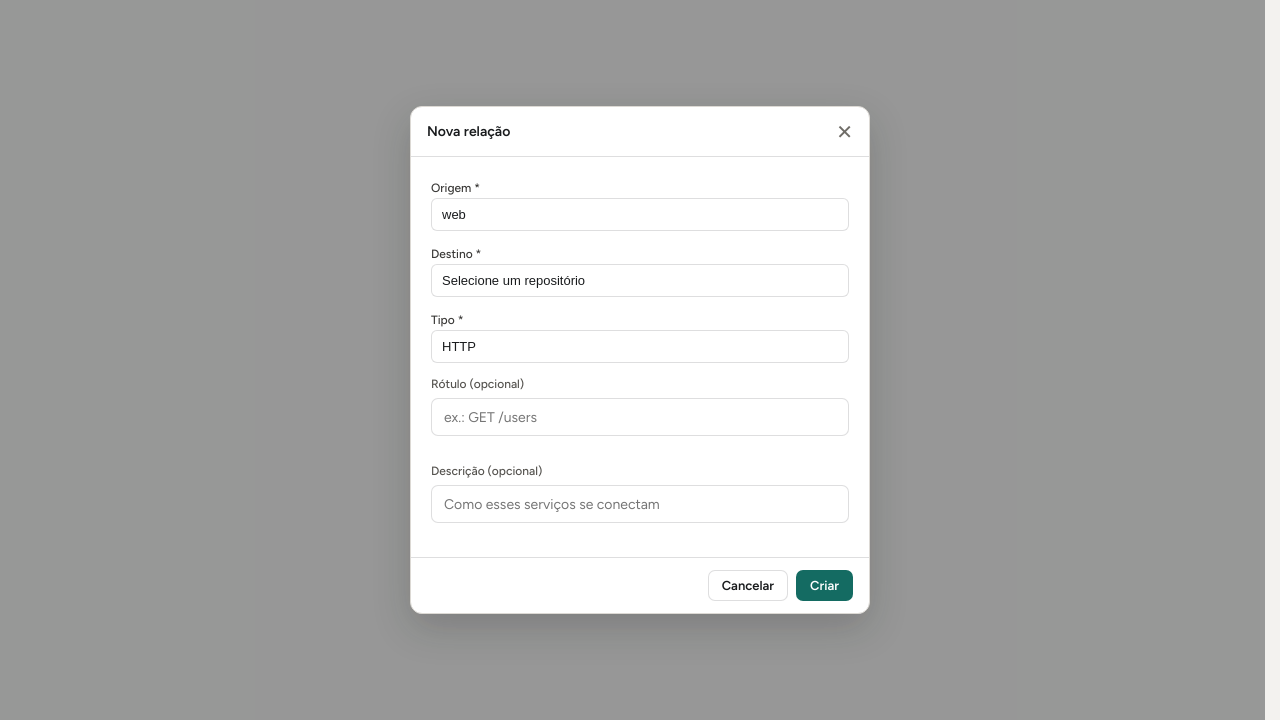
Test: RelationshipModal › shows a validation error when source and target match
This screenshot has width=1280, height=720.
Force target equal to source.
Select "web" in the dropdown labelled "Destino *" at (640, 280), box [431,264,849,297]
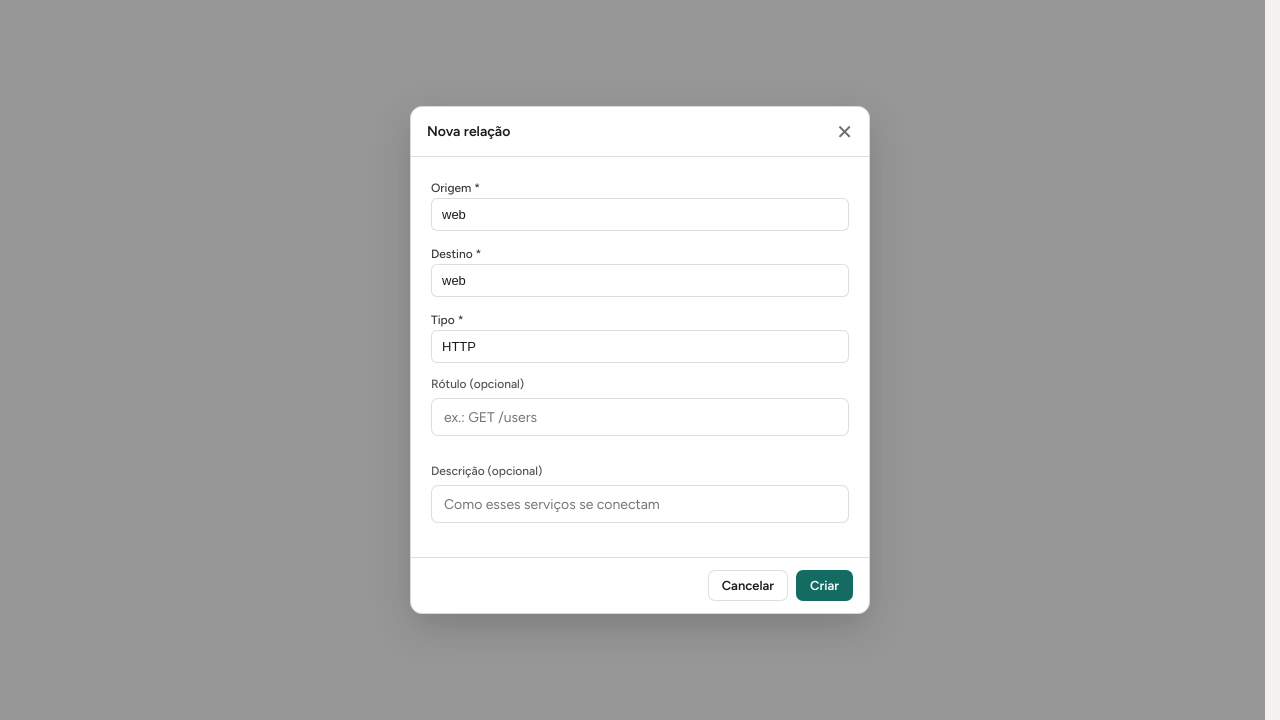
Click the button "Criar" at (825, 586), box [796,570,853,601]
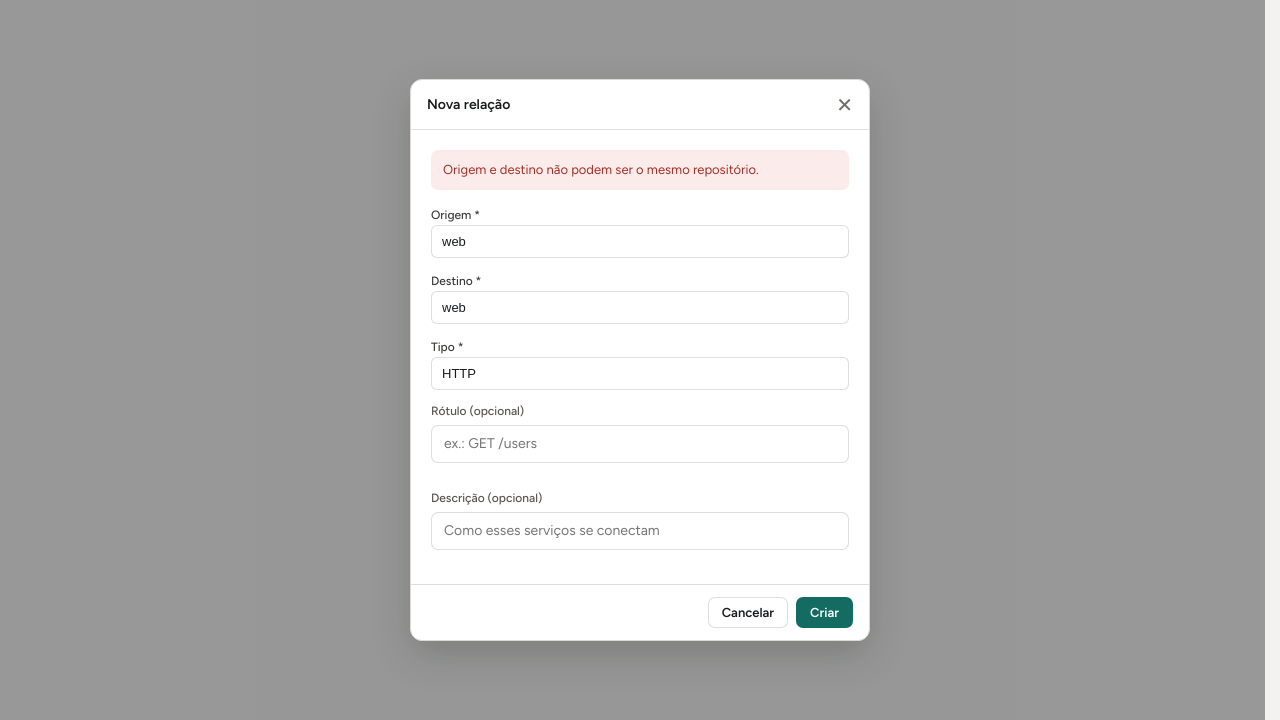
Check: the text "Origem e destino não podem ser o mesmo repositório." is shown, box [431,150,849,190]
